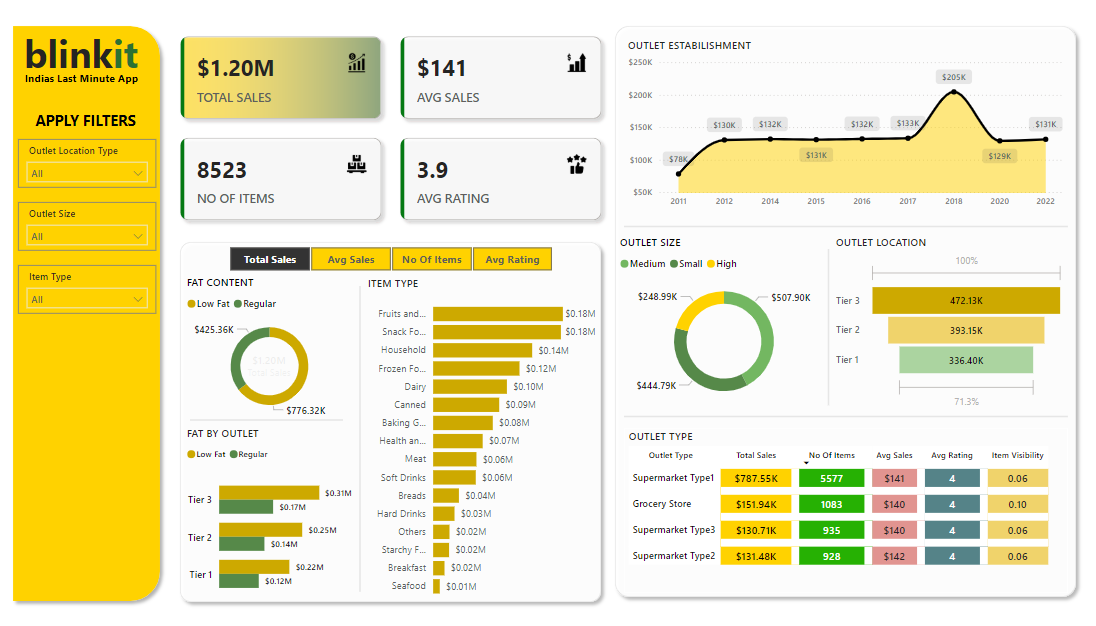

Layout of this report page (visuals, bound fields, positions):
{"tool":"powerbi","page":{"name":"Page 1","canvas":[1400,800],"ordinal":0},"visuals":[{"type":"shape","box":[12.7,24.2,204.9,749.6],"z":0},{"type":"textbox","box":[30.5,29,169.3,91],"z":1000},{"type":"textbox","box":[24,85.3,169.3,44.5],"z":2000},{"type":"cardVisual","fields":{"Data":["BlinkIT Grocery Data.Total Sales","BlinkIT Grocery Data.Avg Sales","BlinkIT Grocery Data.Number Of Items","BlinkIT Grocery Data.Avg Rating"]},"box":[217.6,29.3,570.2,269.8],"z":3000},{"type":"shape","box":[225.3,299.1,553.6,476],"z":4000},{"type":"cardVisual","fields":{"Data":["BlinkIT Grocery Data.Total Sales"]},"box":[301.6,428.9,92.9,73.8],"z":4000},{"type":"donutChart","title":"FAT CONTENT","fields":{"Y":["BlinkIT Grocery Data.Total Sales"],"Category":["BlinkIT Grocery Data.Item Fat Content"]},"box":[238,350,220.2,187.1],"z":5000},{"type":"shape","box":[246.9,524.4,194.7,20.4],"z":5000},{"type":"slicer","fields":{"Values":["Metrics.Metrics"]},"box":[272.4,308,459.5,43.4],"z":6000},{"type":"shape","box":[458.2,364,10.2,389.5],"z":6000},{"type":"shape","box":[778.9,24.2,604.5,744.5],"z":7000},{"type":"lineChart","title":"OUTLET ESTABILISHMENT","fields":{"Category":["BlinkIT Grocery Data.Outlet Establishment Year"],"Y":["BlinkIT Grocery Data.Total Sales"]},"box":[799.3,48,565.1,225.3],"z":8000},{"type":"clusteredBarChart","title":"FAT BY OUTLET","fields":{"Y":["BlinkIT Grocery Data.Total Sales"],"Category":["BlinkIT Grocery Data.Outlet Location Type"],"Series":["BlinkIT Grocery Data.Item Fat Content"]},"box":[238,542.2,220.2,231.6],"z":8000},{"type":"donutChart","title":"OUTLET SIZE","fields":{"Y":["BlinkIT Grocery Data.Total Sales"],"Category":["BlinkIT Grocery Data.Outlet Size"]},"box":[789.1,299.1,274.9,225.3],"z":9000},{"type":"shape","box":[799.3,273.6,565.1,29.3],"z":10000},{"type":"shape","box":[1055,317,8.9,199],"z":11000},{"type":"barChart","title":"ITEM TYPE","fields":{"Y":["BlinkIT Grocery Data.Total Sales"],"Category":["BlinkIT Grocery Data.Item Type"]},"box":[468.4,351.4,300.4,418.6],"z":11000},{"type":"funnel","title":"OUTLET LOCATION","fields":{"Y":["Sum(BlinkIT Grocery Data.Sales)"],"Category":["BlinkIT Grocery Data.Outlet Location Type"]},"box":[1064,299.1,300.4,225.3],"z":12000},{"type":"shape","box":[799.3,515.5,565.1,29.3],"z":13000},{"type":"pivotTable","title":"OUTLET TYPE","fields":{"Rows":["BlinkIT Grocery Data.Outlet Type"],"Values":["BlinkIT Grocery Data.Total Sales","BlinkIT Grocery Data.Number Of Items","BlinkIT Grocery Data.Avg Sales","BlinkIT Grocery Data.Avg Rating","Avg(BlinkIT Grocery Data.Item Visibility)"]},"box":[799.3,544.7,565.1,210],"z":14000},{"type":"slicer","fields":{"Values":["BlinkIT Grocery Data.Outlet Location Type"]},"box":[28,176.9,175.6,62.4],"z":14001},{"type":"slicer","fields":{"Values":["BlinkIT Grocery Data.Outlet Size"]},"box":[28,257.1,175.6,62.4],"z":14002},{"type":"slicer","fields":{"Values":["BlinkIT Grocery Data.Item Type"]},"box":[28,337.3,175.6,62.4],"z":14003},{"type":"textbox","box":[28,134.9,171.8,35],"z":14004}]}

Visuals, with their boxes in screenshot pixels (x1, y1, x2, y2), scaled from the page's 1400x800 canvas onto the 1096x626 screenshot:
shape: box(10, 19, 170, 605)
textbox: box(24, 23, 156, 94)
textbox: box(19, 67, 151, 102)
cardVisual - BlinkIT Grocery Data.Total Sales x BlinkIT Grocery Data.Avg Sales: box(170, 23, 617, 234)
shape: box(176, 234, 610, 607)
cardVisual - BlinkIT Grocery Data.Total Sales: box(236, 336, 309, 393)
"FAT CONTENT" donutChart: box(186, 274, 359, 420)
shape: box(193, 410, 346, 426)
slicer - Metrics.Metrics: box(213, 241, 573, 275)
shape: box(359, 285, 367, 590)
shape: box(610, 19, 1083, 602)
"OUTLET ESTABILISHMENT" lineChart: box(626, 38, 1068, 214)
"FAT BY OUTLET" clusteredBarChart: box(186, 424, 359, 605)
"OUTLET SIZE" donutChart: box(618, 234, 833, 410)
shape: box(626, 214, 1068, 237)
shape: box(826, 248, 833, 404)
"ITEM TYPE" barChart: box(367, 275, 602, 603)
"OUTLET LOCATION" funnel: box(833, 234, 1068, 410)
shape: box(626, 403, 1068, 426)
"OUTLET TYPE" pivotTable: box(626, 426, 1068, 591)
slicer - BlinkIT Grocery Data.Outlet Location Type: box(22, 138, 159, 187)
slicer - BlinkIT Grocery Data.Outlet Size: box(22, 201, 159, 250)
slicer - BlinkIT Grocery Data.Item Type: box(22, 264, 159, 313)
textbox: box(22, 106, 156, 133)
